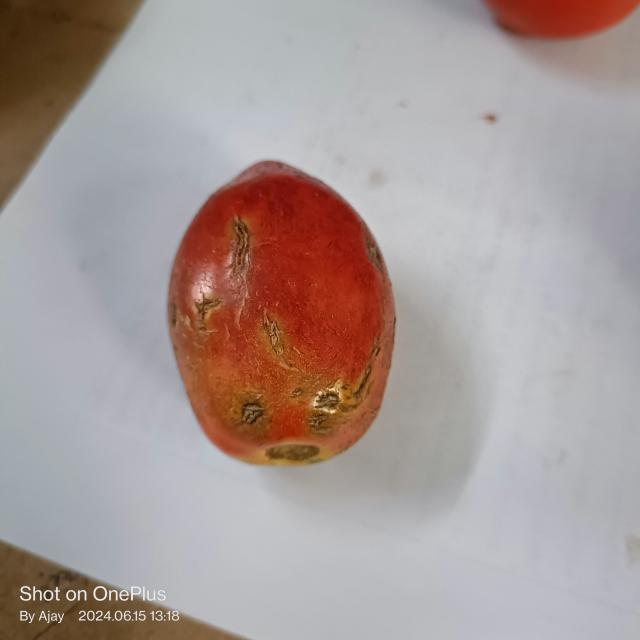Bacterial_Spot: (309, 387, 344, 438), (230, 213, 254, 268), (256, 313, 282, 361), (239, 402, 266, 428), (191, 294, 220, 314)
